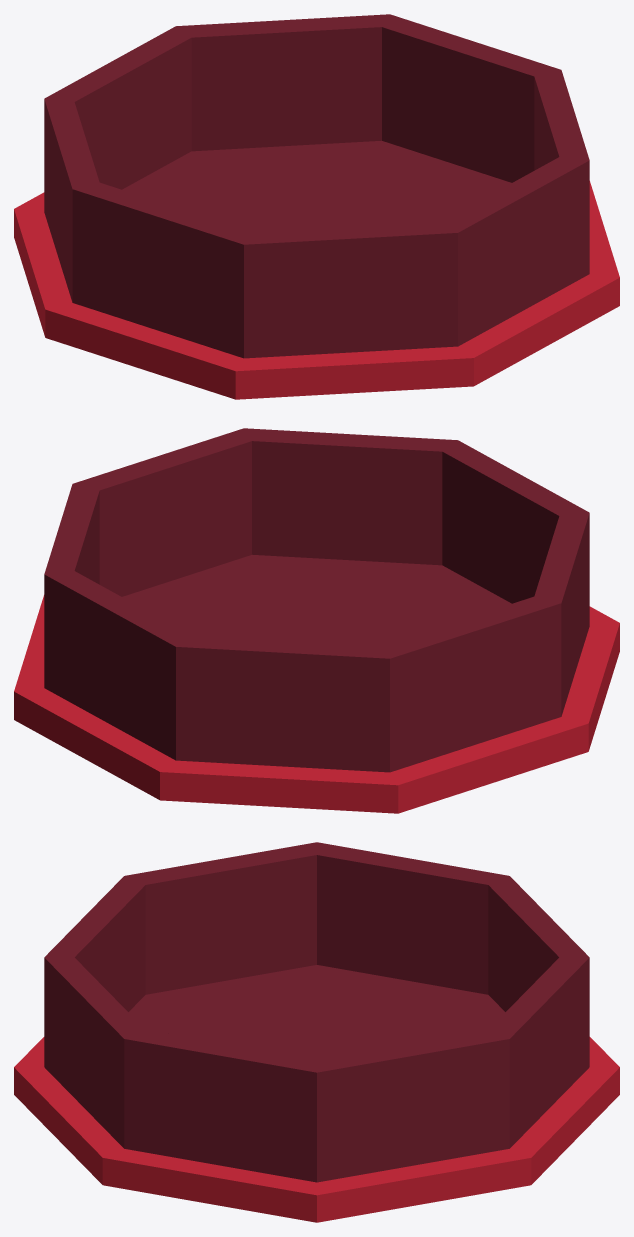
File: Tower_BOT.fbx
3 renders of one model, top to bottom at view 1: azimuth 30°, elevation 25°; view 2: azimuth 150°, elevation 25°; view 3: azimuth 270°, elevation 25°, orthographic. The views are drawn at different scales.
Visible parts, largest first — view 1: tower_bottom_001_msh; view 2: tower_bottom_001_msh; view 3: tower_bottom_001_msh.
Boxes of the visible parts, x1,y1,x2,y2 form: tower_bottom_001_msh: (14,14,619,399); tower_bottom_001_msh: (14,428,619,813); tower_bottom_001_msh: (14,842,619,1222).
Bounding box in the file's own units: 400 × 100 × 400.
